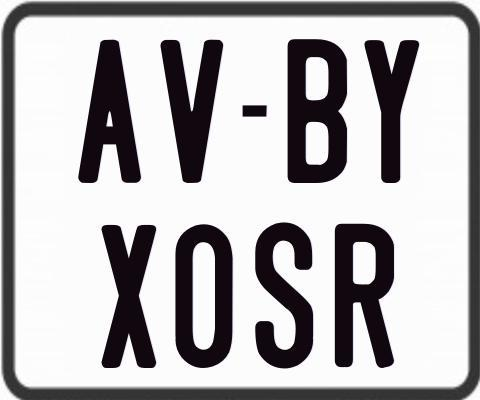0: (172, 223, 231, 370)
A: (75, 38, 143, 187)
B: (285, 37, 346, 184)
R: (333, 224, 395, 368)
S: (253, 220, 317, 366)
V: (159, 38, 226, 184)
X: (99, 223, 155, 370)
Y: (364, 40, 421, 189)
